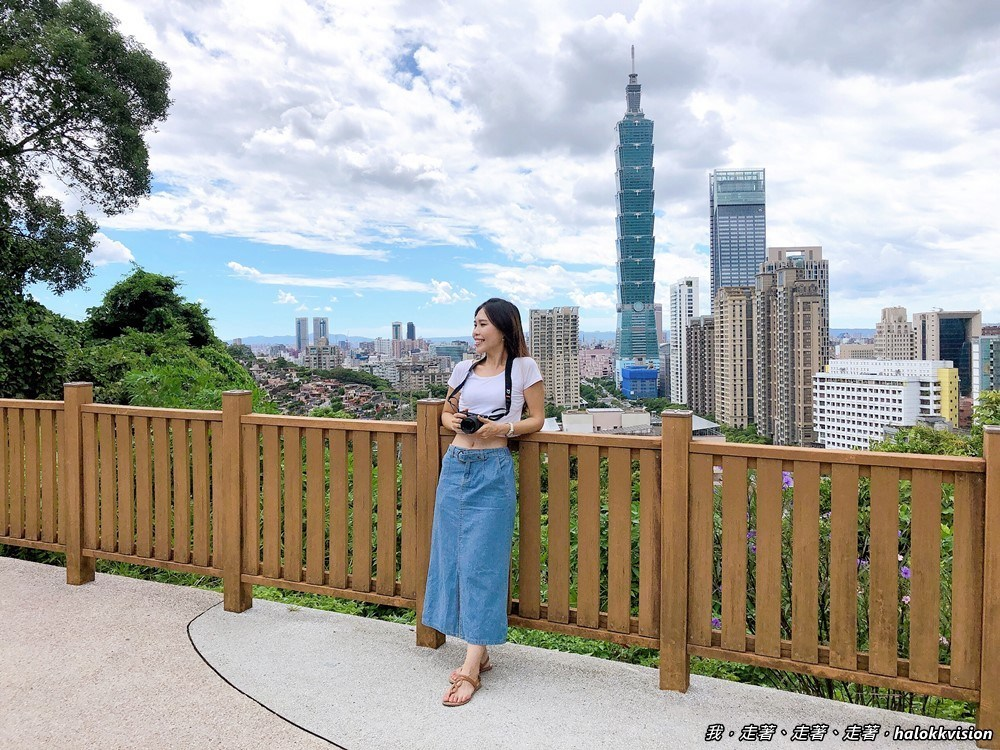people: (426, 297, 543, 697)
